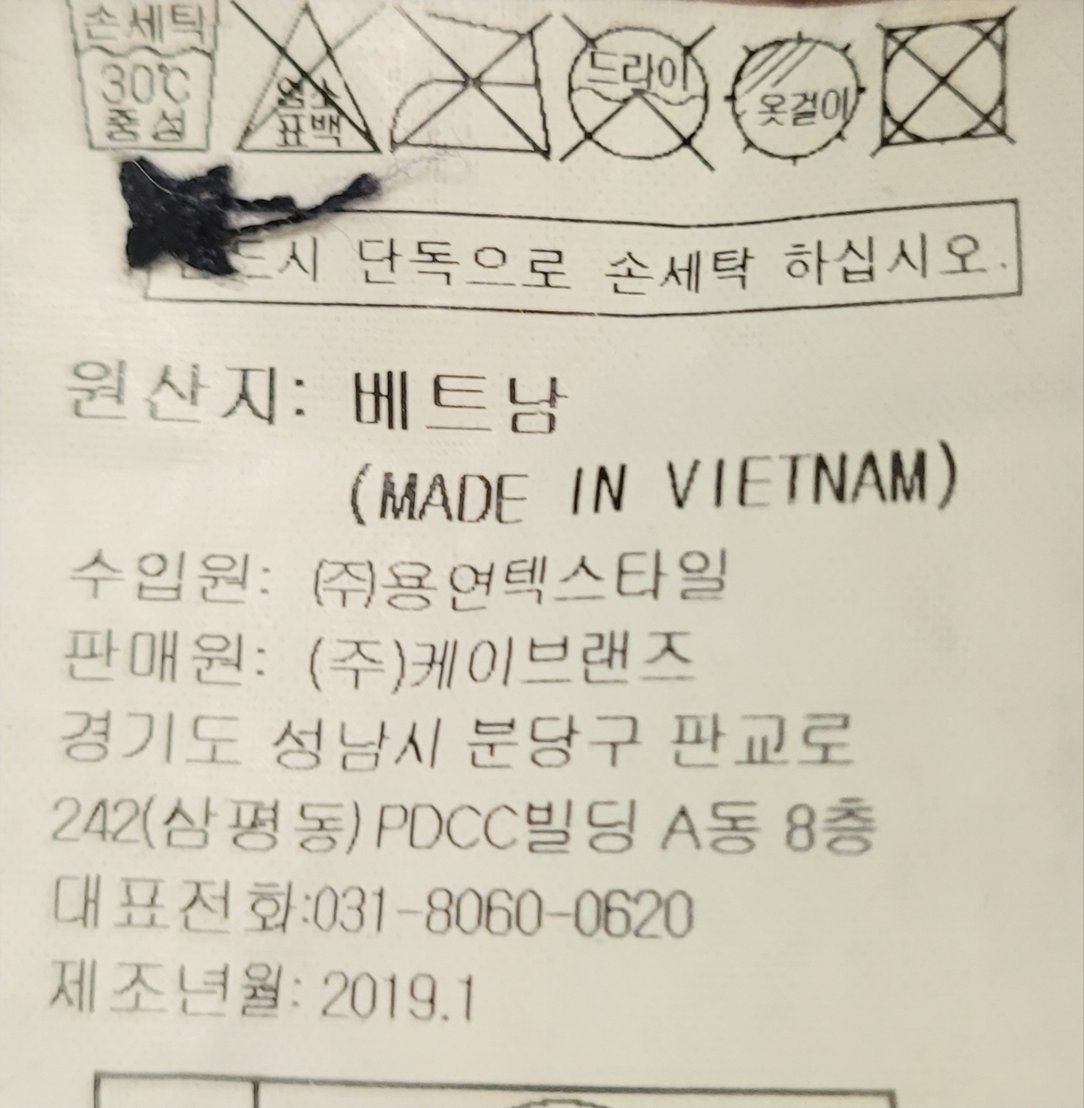KR_hand_wash_30_neutral: (61, 0, 228, 159)
